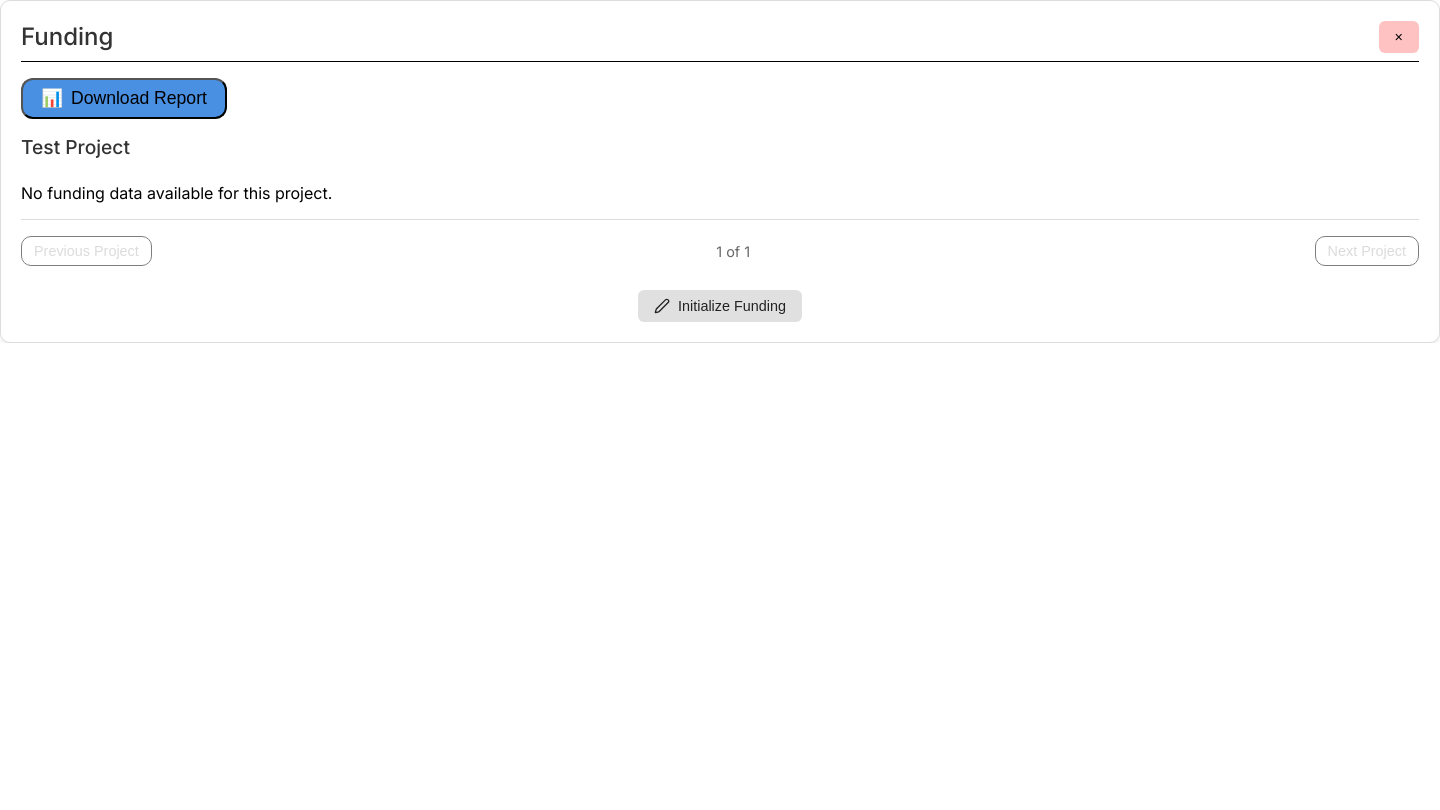
it: FundingWidget › opens edit modal for uninitialized funding
expect the heading with test id "project-title" reads "Test Project": met, box [21,135,130,159]
Click the button with test id "edit-funding-button". click: (720, 306)
box: [638,290,802,322]
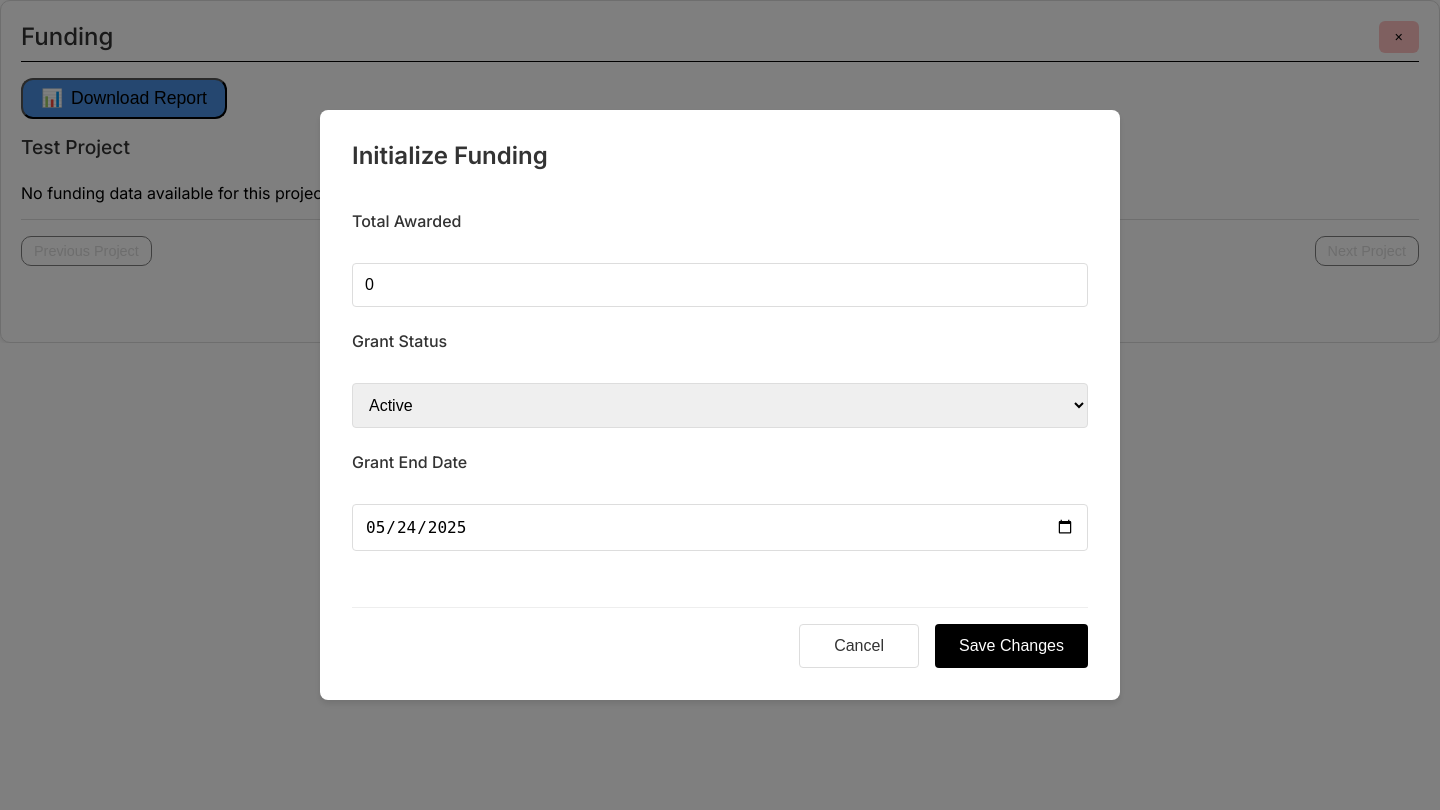
expect the heading with test id "form-title" reads "Initialize Funding": met, box [352,141,548,170]
